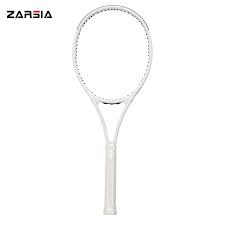tennis racket: (71, 4, 153, 217)
